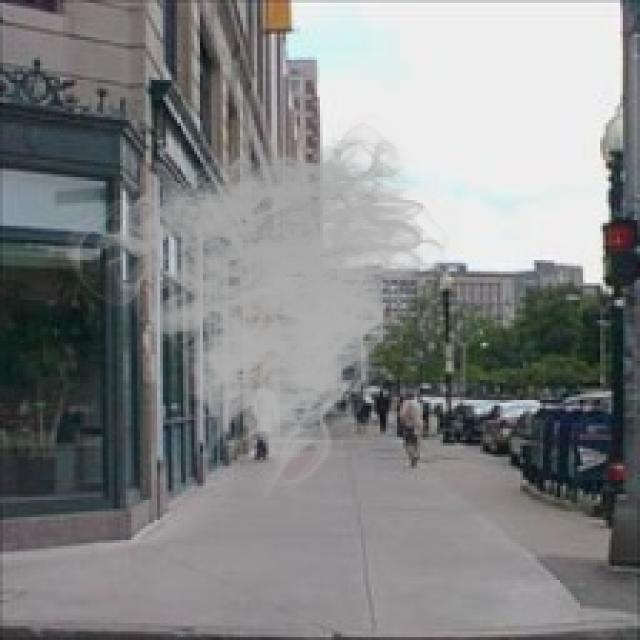smoke: (60, 114, 460, 497)
